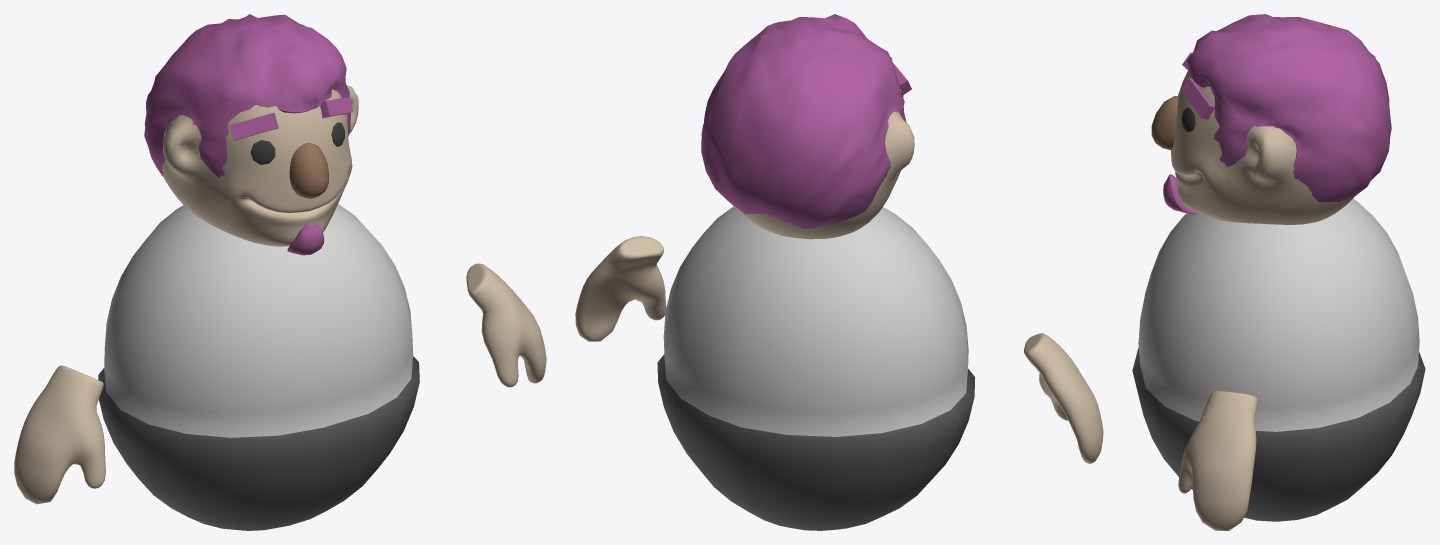
Rendered from NPC_male01_plain.fbx.
3 renders of one model, left to right at view 1: azimuth 30°, elevation 25°; view 2: azimuth 150°, elevation 25°; view 3: azimuth 270°, elevation 25°, orthographic.
Visible parts, largest first — view 1: Group31901, neutralHair, Group18725, Group65443, Group65442, Group65441, soul_patch:Group28725, pCube15; view 2: Group31901, neutralHair, Group65442, Group65443, Group18725; view 3: Group31901, neutralHair, Group18725, Group65442, Group65441, pCube15, soul_patch:Group28725.
Boxes of the visible parts, x1,y1,x2,y2 form: Group31901: [98, 204, 419, 530]; neutralHair: [144, 14, 350, 177]; Group18725: [162, 85, 358, 246]; Group65443: [14, 365, 105, 504]; Group65442: [466, 263, 546, 387]; Group65441: [289, 143, 329, 198]; soul_patch:Group28725: [287, 222, 324, 255]; pCube15: [229, 112, 278, 140]; Group31901: [657, 206, 975, 530]; neutralHair: [701, 14, 906, 228]; Group65442: [575, 236, 666, 341]; Group65443: [1024, 333, 1103, 463]; Group18725: [732, 89, 914, 239]; Group31901: [1132, 198, 1425, 521]; neutralHair: [1187, 14, 1391, 202]; Group18725: [1171, 68, 1353, 224]; Group65442: [1178, 391, 1257, 530]; Group65441: [1151, 96, 1177, 150]; pCube15: [1180, 78, 1214, 119]; soul_patch:Group28725: [1163, 174, 1196, 214].
Bounding box in the file's own units: 2.28 × 2.06 × 1.12.
